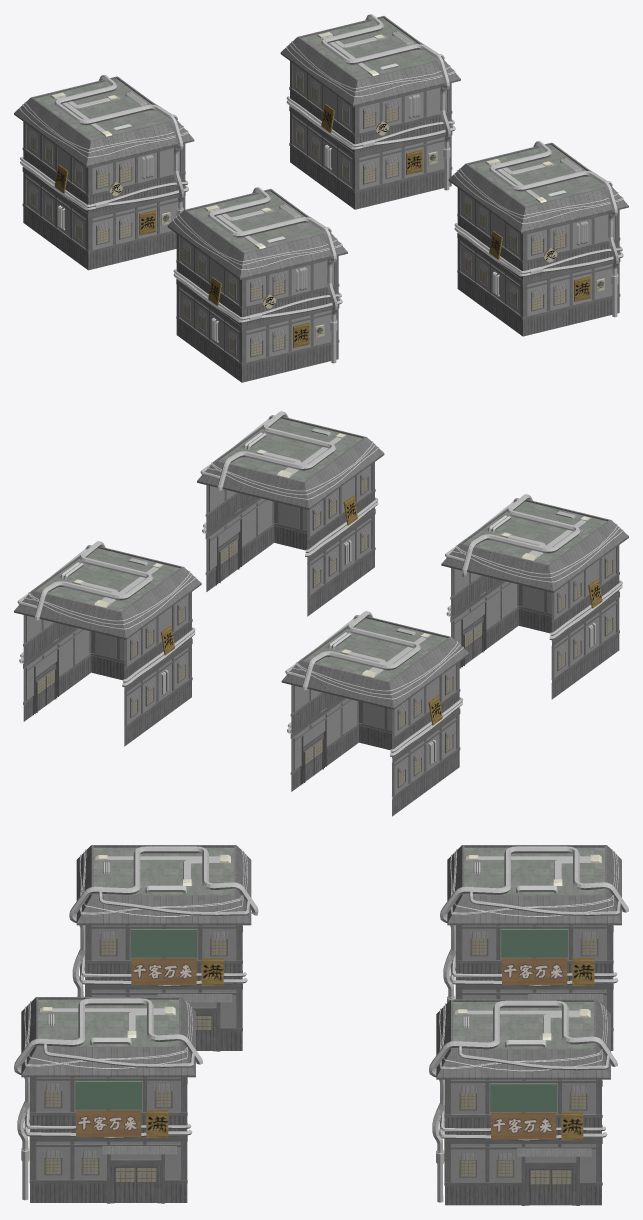
Rendered from MERGED_SM_ENV_KNVLLG_CommonBuilding_A_1.mo.fbx.
The picture shows the model from 3 angles, top to bottom: view 1: azimuth 30°, elevation 25°; view 2: azimuth 150°, elevation 25°; view 3: azimuth 270°, elevation 25°; orthographic projection. The views are drawn at different scales.
Parts seen in each view (by area): view 1: MERGED_SM_ENV_KNVLLG_CommonBuilding_A_1.mo; view 2: MERGED_SM_ENV_KNVLLG_CommonBuilding_A_1.mo; view 3: MERGED_SM_ENV_KNVLLG_CommonBuilding_A_1.mo.
Boxes of the visible parts, x1,y1,x2,y2 form: MERGED_SM_ENV_KNVLLG_CommonBuilding_A_1.mo: (14,14,628,382); MERGED_SM_ENV_KNVLLG_CommonBuilding_A_1.mo: (14,411,628,816); MERGED_SM_ENV_KNVLLG_CommonBuilding_A_1.mo: (14,845,628,1205).
Bounding box in the file's own units: 46.6 × 15.73 × 55.58.
